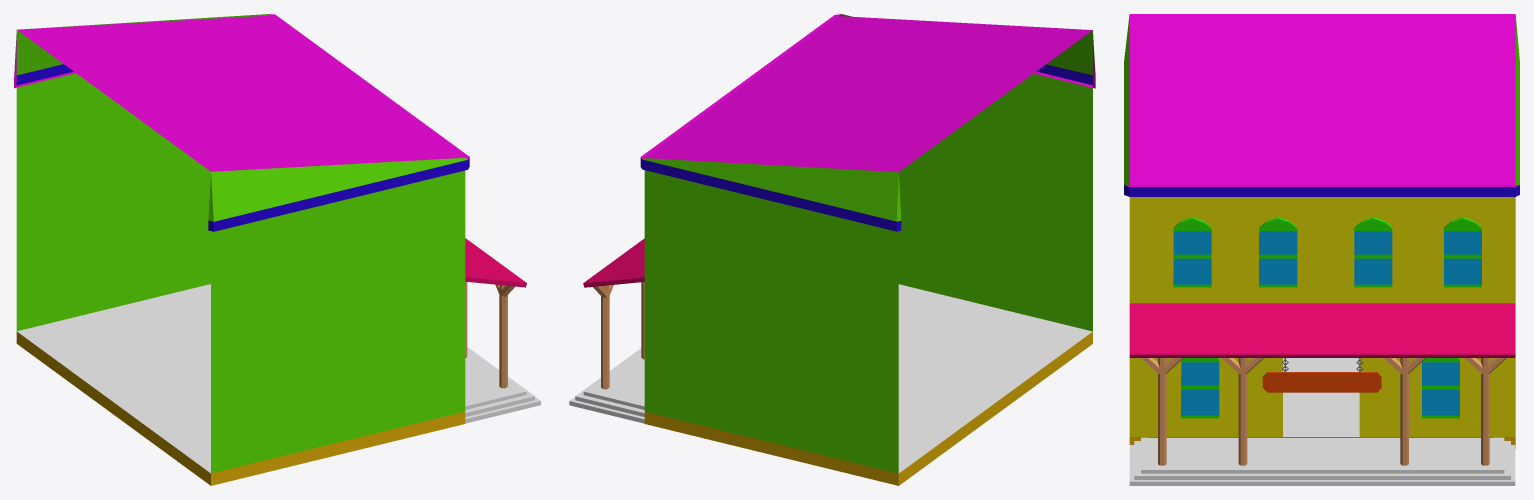
File: dom_1__bez_tylublend.fbx
The picture shows the model from 3 angles, left to right: view 1: azimuth 30°, elevation 25°; view 2: azimuth 150°, elevation 25°; view 3: azimuth 270°, elevation 25°; orthographic projection.
Parts seen in each view (by area): view 1: Plane.003, Plane.001; view 2: Plane.003, Plane.001; view 3: Plane.003, Plane.001, Plane.008.
Part boxes in pixels (x1,y1,x2,y2): Plane.003: [14, 14, 540, 485]; Plane.001: [465, 238, 526, 388]; Plane.003: [569, 14, 1095, 485]; Plane.001: [583, 238, 644, 389]; Plane.003: [1124, 14, 1519, 485]; Plane.001: [1129, 197, 1515, 465]; Plane.008: [1173, 217, 1481, 418].
Size of the model in its own units: 2030 by 1832 by 2106.
